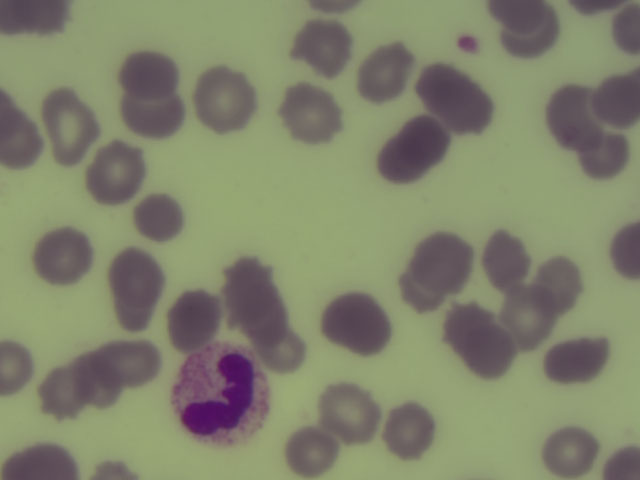Platelets: (451, 30, 484, 61)
RBC: (38, 86, 95, 162), (106, 249, 162, 319), (447, 304, 500, 375), (541, 421, 600, 480), (479, 226, 530, 294), (545, 79, 595, 148), (411, 234, 470, 292), (380, 398, 439, 456), (320, 383, 379, 441), (328, 292, 387, 350), (253, 312, 312, 370), (226, 265, 285, 323), (32, 227, 91, 285), (81, 146, 140, 204), (433, 72, 492, 130), (351, 46, 410, 104), (291, 20, 350, 78), (279, 87, 338, 145), (196, 72, 255, 130), (497, 294, 556, 352), (116, 89, 183, 139), (542, 338, 608, 388), (95, 341, 163, 389), (164, 290, 221, 346), (529, 255, 584, 313), (1, 439, 76, 480), (1, 98, 40, 174), (283, 428, 338, 480), (72, 353, 119, 409), (38, 364, 87, 417), (596, 68, 640, 126), (607, 215, 640, 286), (492, 1, 554, 38), (376, 141, 424, 188), (121, 50, 175, 90), (581, 133, 629, 178), (132, 194, 181, 238), (405, 109, 449, 158), (1, 1, 73, 30), (1, 335, 34, 398), (606, 1, 640, 56)
WBC: (176, 345, 270, 445)
